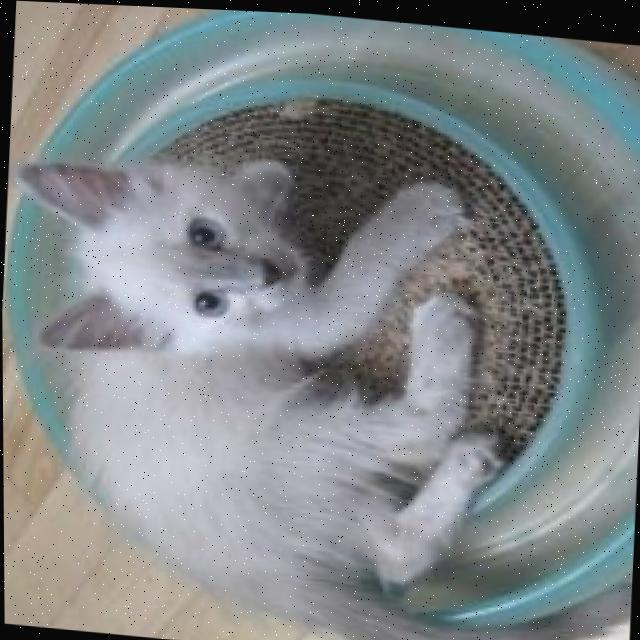Ragdoll: (1, 125, 640, 640)
